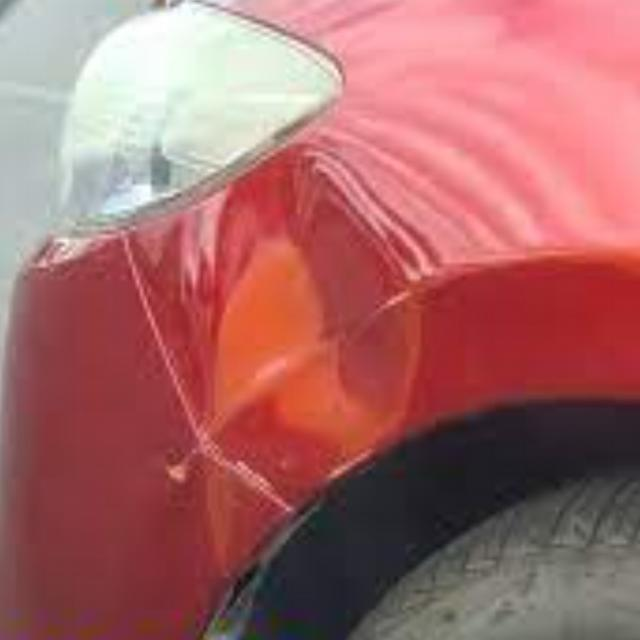dents: (170, 152, 420, 503)
